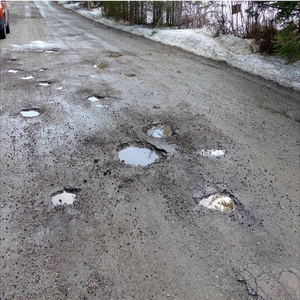pothole: (114, 138, 170, 168), (197, 186, 244, 215), (47, 186, 80, 209), (141, 121, 175, 141), (199, 146, 228, 160), (18, 106, 41, 118)
